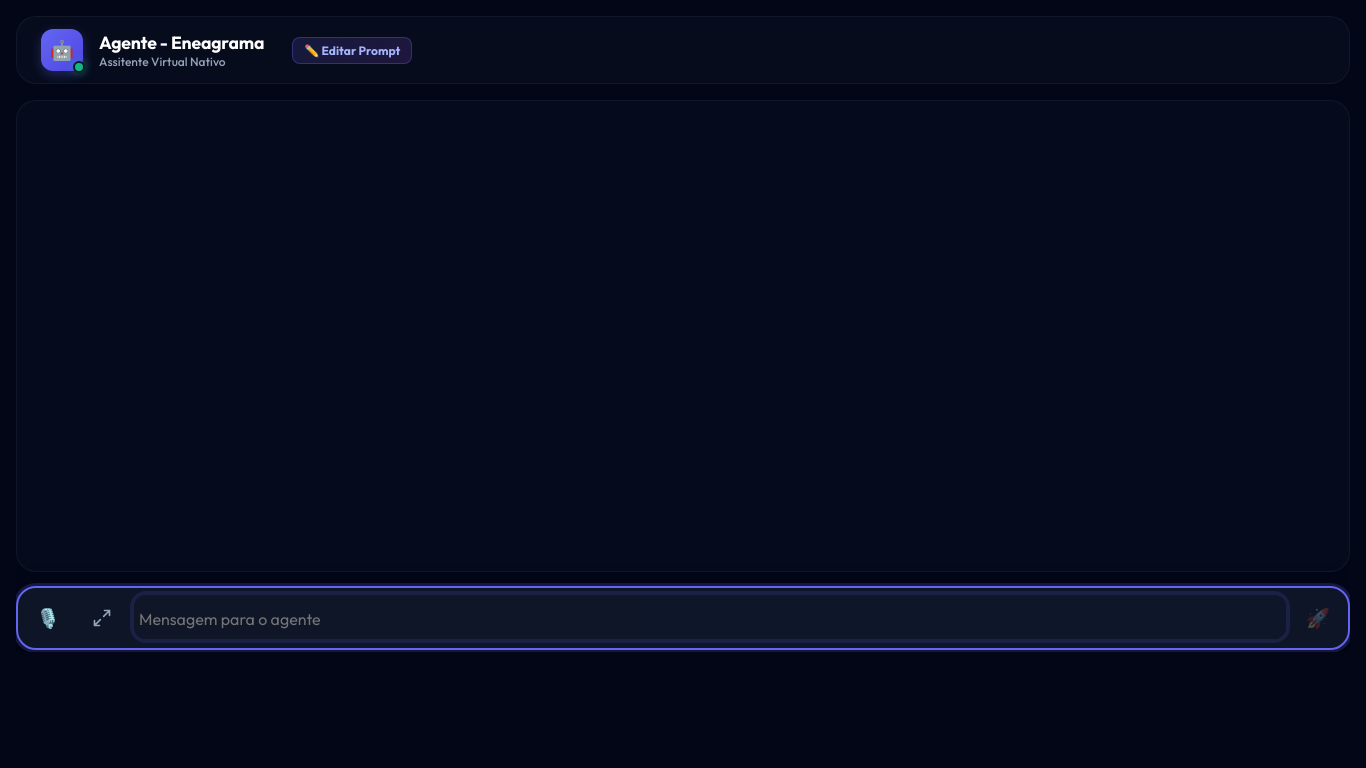
Test: ChatPlayground Component › should show error if execute fails
The image size is (1366, 768).
In the text box with placeholder "Mensagem para o agente": coordinates (710, 617) [134,595,1286,639], type "Erro!"
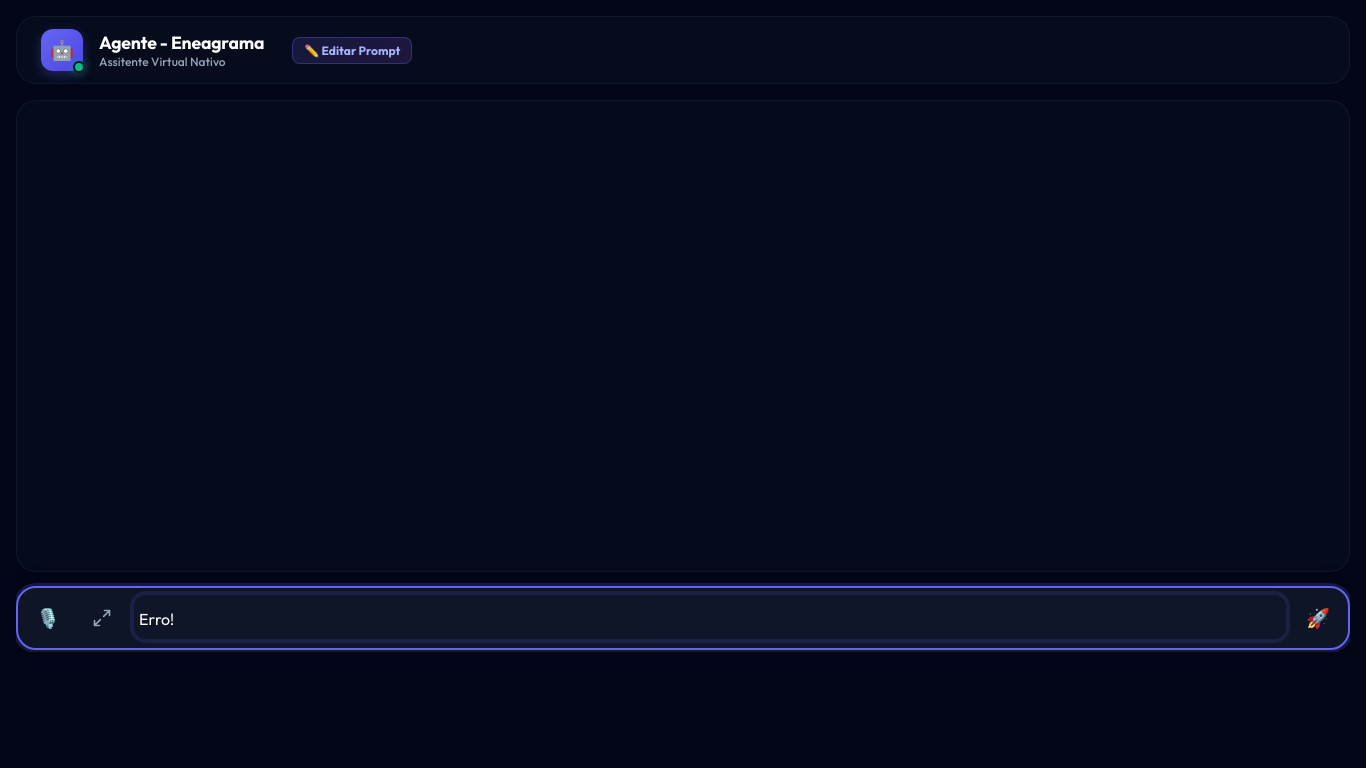
Click the button "🚀": coordinates (1318, 618) [1296,596,1340,640]
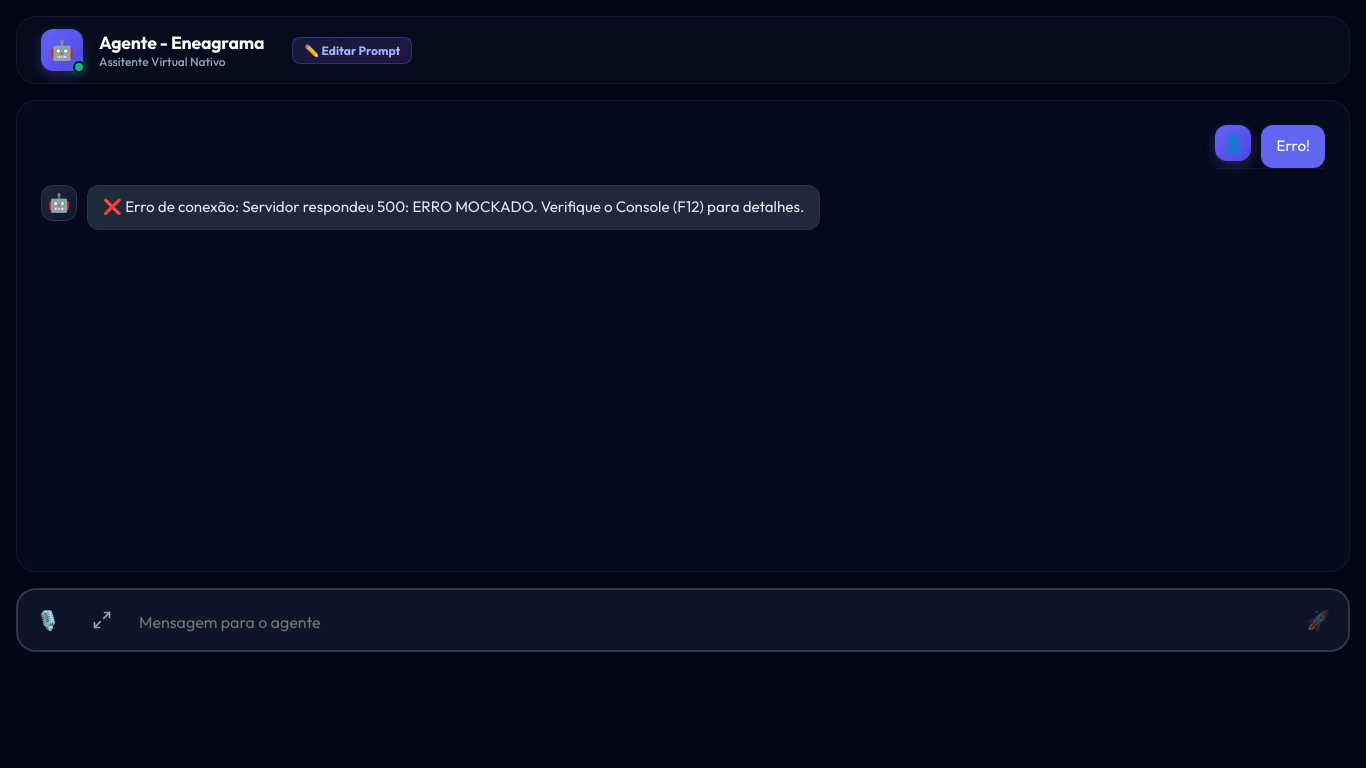
Result: the text "ERRO MOCKADO" is shown at [103,197,804,216]
